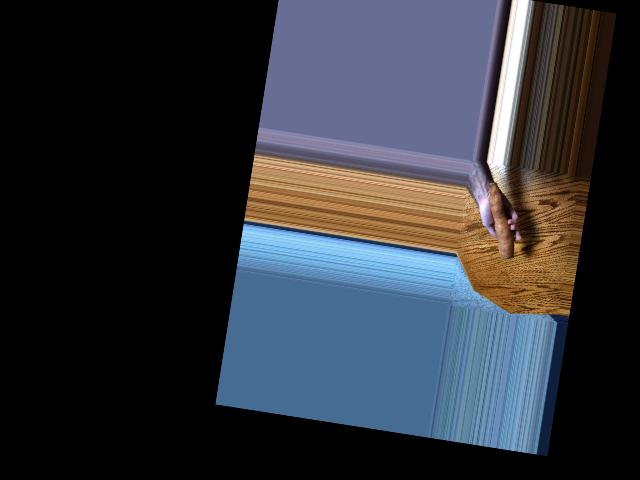sweet_potato: (476, 179, 526, 260)
